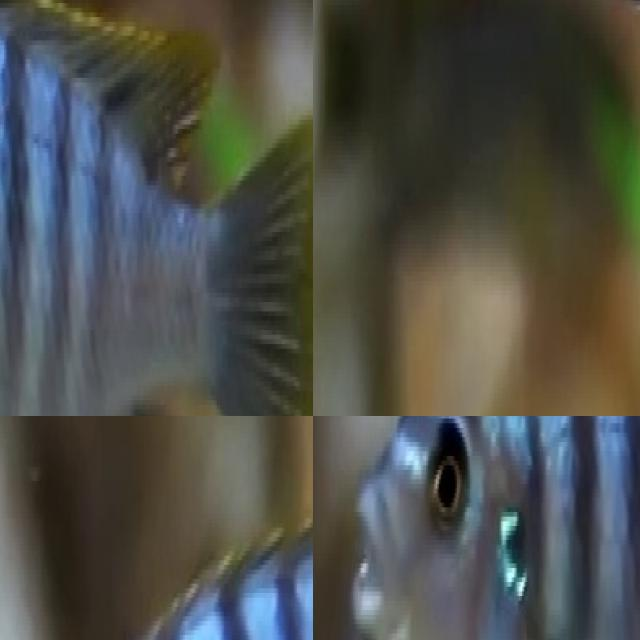fish: (0, 0, 313, 416), (313, 416, 640, 640)
